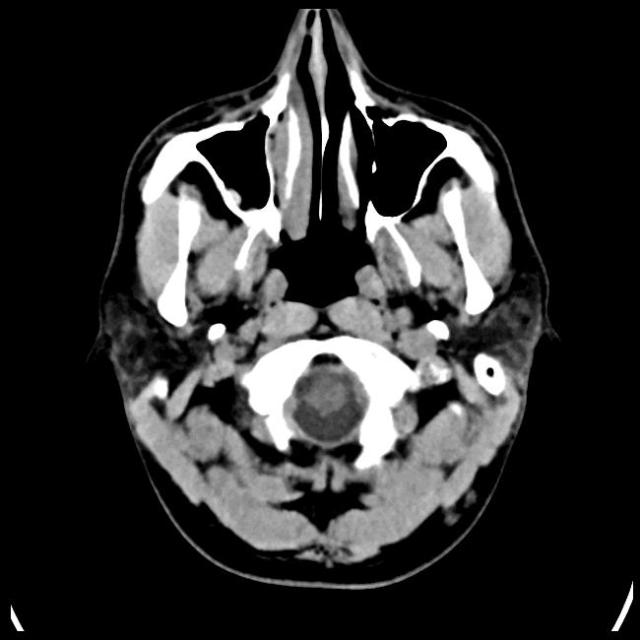lesion: (93, 9, 557, 582)
